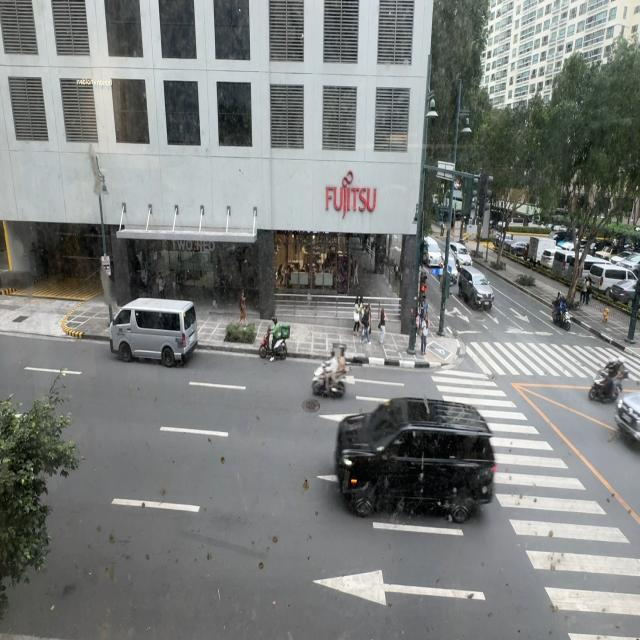pedestrain: (361, 304, 372, 344), (238, 290, 248, 329), (378, 307, 388, 345), (353, 299, 361, 335), (156, 270, 165, 299)
waiting: (420, 317, 428, 356)
